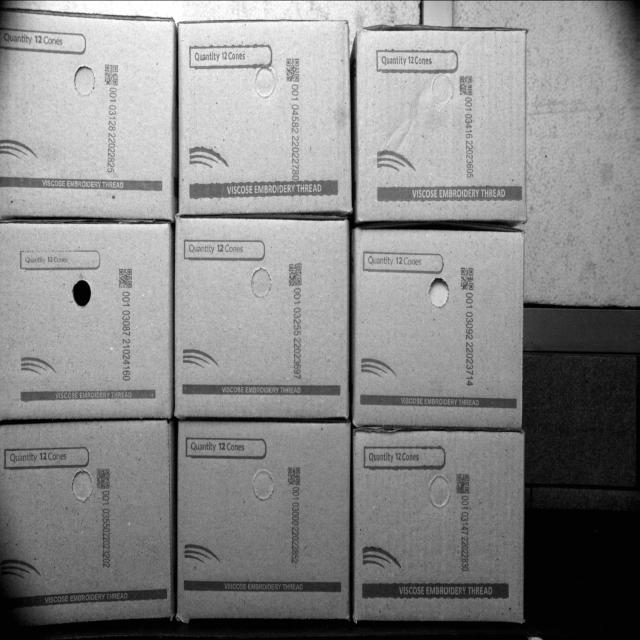box: (0, 8, 173, 220), (178, 17, 352, 214), (179, 420, 349, 621), (352, 231, 526, 426), (0, 416, 169, 616), (0, 214, 174, 408), (182, 217, 353, 413), (358, 23, 525, 220), (357, 433, 526, 624)
